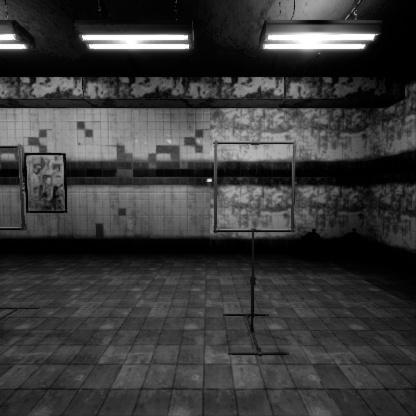gate: (214, 183, 303, 275)
